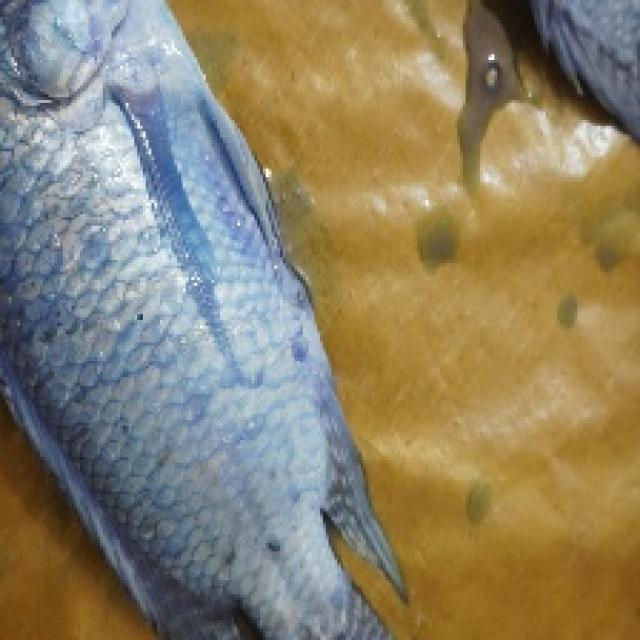Non-Fresh: (0, 0, 377, 629)
